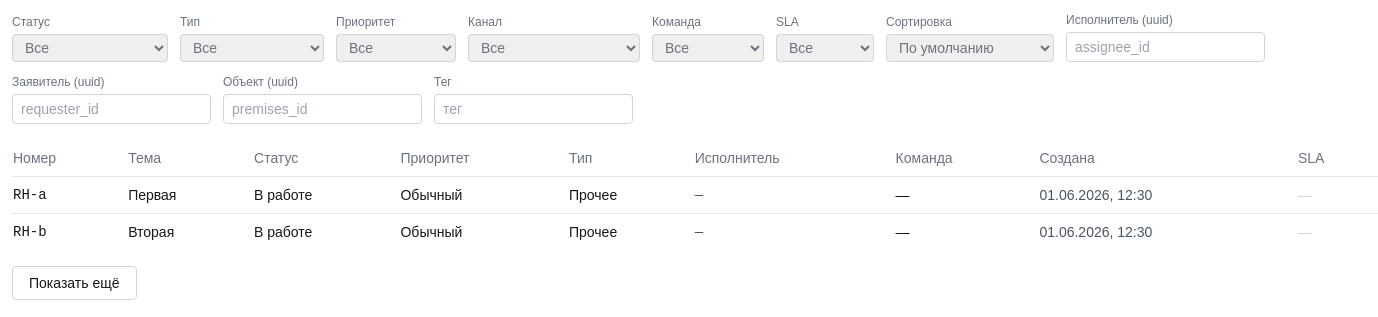
Test: TicketsView — пагинация › «Показать ещё» добавляет страницу, дедуплицирует по id, прячет кнопку в конце
Click the button "Показать ещё" at coordinates (74, 283), box [12,266,136,300]
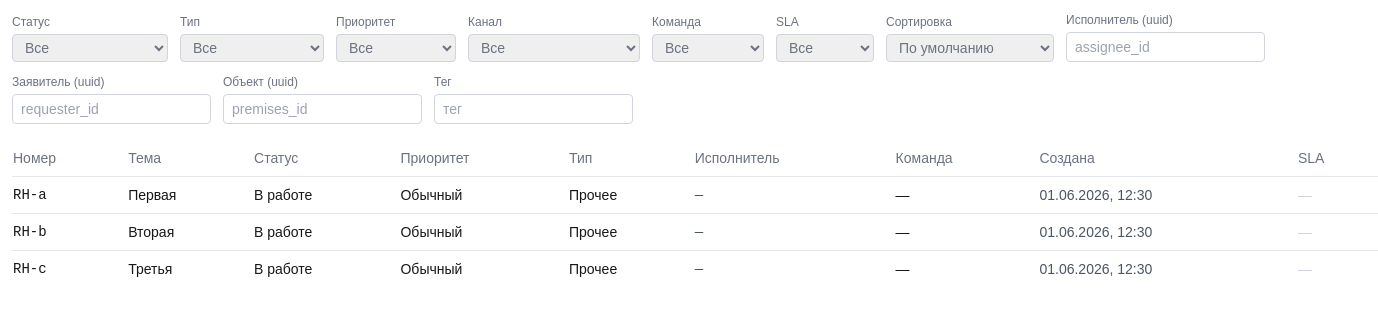
Expected: the text "Третья" is shown, [127,250,253,287]
Expected: the text "Вторая" is shown once, [127,214,253,250]
Expected: the button "Показать ещё" is gone
